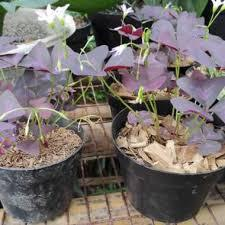butterfly flower: (143, 10, 202, 59), (6, 46, 101, 76), (181, 73, 224, 138), (121, 63, 162, 93)
